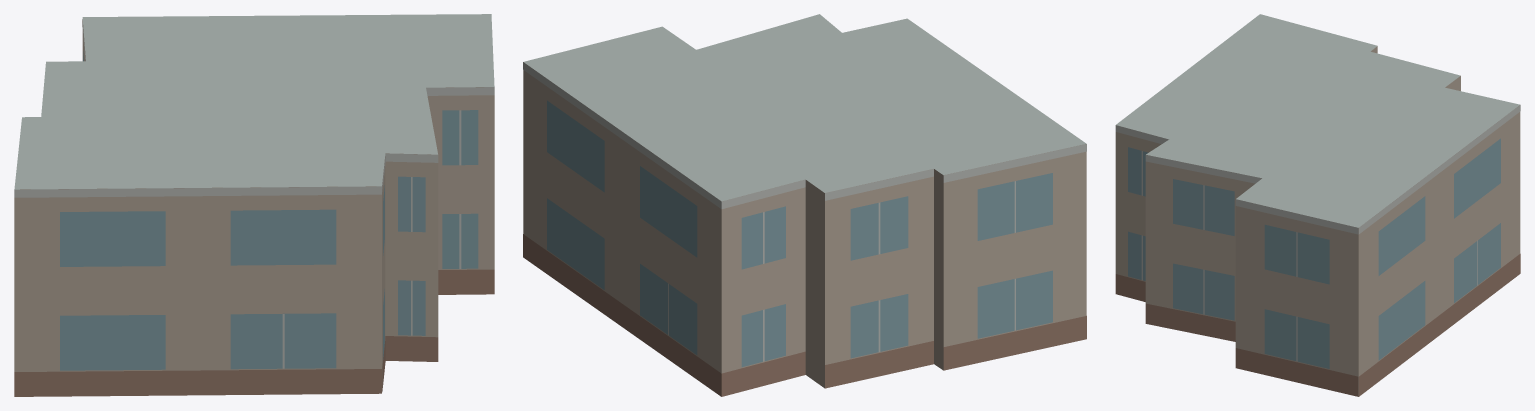
File: survey-upis-32837743.glb
The picture shows the model from 3 angles, left to right: view 1: azimuth 30°, elevation 25°; view 2: azimuth 150°, elevation 25°; view 3: azimuth 270°, elevation 25°; orthographic projection. The views are drawn at different scales.
Visible parts, largest first — view 1: survey-upis-32837743.tmp; view 2: survey-upis-32837743.tmp; view 3: survey-upis-32837743.tmp.
Part boxes in pixels (box(x1,y1,x2,y2)): survey-upis-32837743.tmp: box(14, 14, 494, 396); survey-upis-32837743.tmp: box(523, 14, 1086, 396); survey-upis-32837743.tmp: box(1115, 14, 1520, 396).
Bounding box in the file's own units: 16.56 × 6.1 × 13.25.
